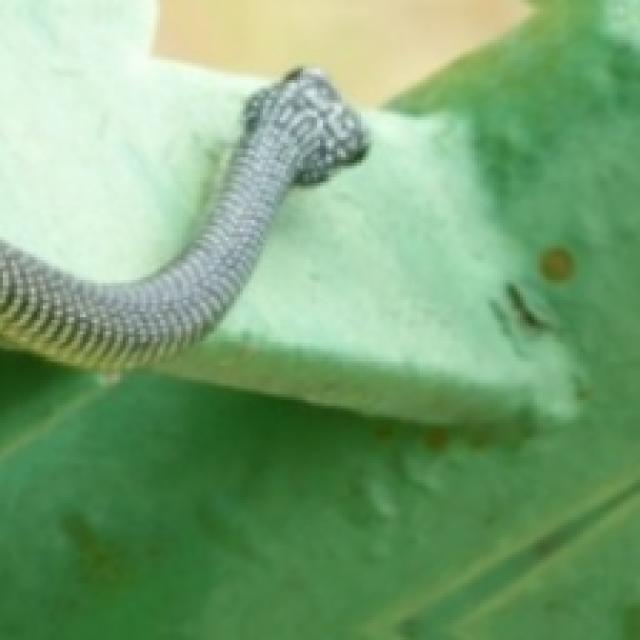paradise tree snake: (0, 69, 366, 369)
